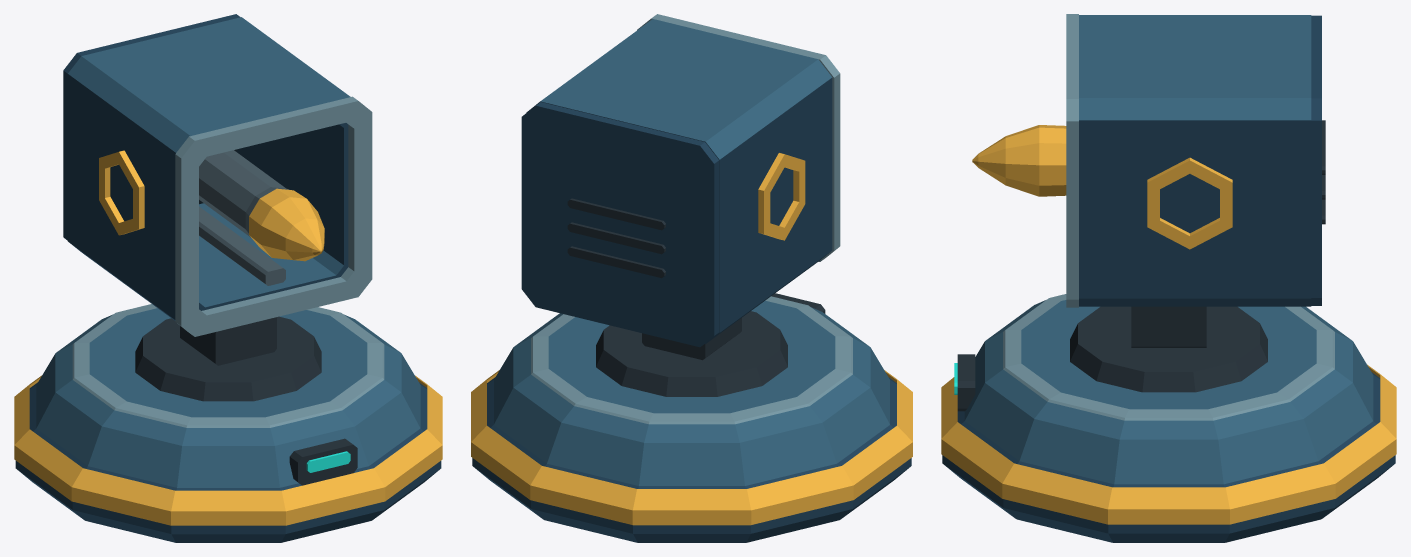
Rendered from MissileTurret.obj.
3 views of the same model, side by side, from view 1: azimuth 30°, elevation 25°; view 2: azimuth 150°, elevation 25°; view 3: azimuth 270°, elevation 25° (orthographic). The views are drawn at different scales.
Parts seen in each view (by area): view 1: UpperPlinth, TopArmor, LauncherHousing, GoldBelt, BlueFrontRim, Turntable, Foundation, TopRim, Warhead, MissileBody, Support, LaunchRail (+4 smaller); view 2: UpperPlinth, RearArmor, TopArmor, GoldBelt, LauncherHousing, Turntable, Foundation, TopRim, BlueFrontRim, SideBadgeL, Support, RearVent0 (+2 smaller); view 3: UpperPlinth, LauncherHousing, TopArmor, GoldBelt, Turntable, Foundation, TopRim, Warhead, BlueFrontRim, SideBadgeR, RearArmor, Support (+1 smaller).
Boxes of the visible parts, x1=… form: UpperPlinth: x1=36, y1=308, x2=420, y2=487; TopArmor: x1=68, y1=17, x2=350, y2=307; LauncherHousing: x1=67, y1=74, x2=348, y2=320; GoldBelt: x1=14, y1=375, x2=442, y2=525; BlueFrontRim: x1=175, y1=96, x2=372, y2=336; Turntable: x1=135, y1=316, x2=321, y2=401; Foundation: x1=15, y1=382, x2=441, y2=542; TopRim: x1=72, y1=304, x2=384, y2=427; Warhead: x1=249, y1=188, x2=324, y2=261; MissileBody: x1=199, y1=150, x2=289, y2=237; Support: x1=180, y1=317, x2=276, y2=365; LaunchRail: x1=199, y1=206, x2=285, y2=285; UpperPlinth: x1=494, y1=300, x2=889, y2=485; RearArmor: x1=521, y1=102, x2=719, y2=347; TopArmor: x1=540, y1=19, x2=832, y2=159; GoldBelt: x1=471, y1=370, x2=912, y2=525; LauncherHousing: x1=526, y1=78, x2=832, y2=343; Turntable: x1=596, y1=311, x2=787, y2=396; Foundation: x1=472, y1=377, x2=911, y2=542; TopRim: x1=531, y1=296, x2=852, y2=424; BlueFrontRim: x1=637, y1=14, x2=840, y2=261; SideBadgeL: x1=758, y1=153, x2=805, y2=240; Support: x1=642, y1=318, x2=741, y2=360; RearVent0: x1=567, y1=246, x2=665, y2=278; UpperPlinth: x1=964, y1=300, x2=1373, y2=484; LauncherHousing: x1=1079, y1=120, x2=1311, y2=306; TopArmor: x1=1079, y1=15, x2=1311, y2=120; GoldBelt: x1=941, y1=364, x2=1396, y2=524; Turntable: x1=1070, y1=306, x2=1267, y2=392; Foundation: x1=942, y1=372, x2=1395, y2=542; TopRim: x1=1003, y1=294, x2=1334, y2=420; Warhead: x1=972, y1=125, x2=1066, y2=196; BlueFrontRim: x1=1066, y1=14, x2=1078, y2=307; SideBadgeR: x1=1147, y1=157, x2=1232, y2=249; RearArmor: x1=1311, y1=15, x2=1321, y2=305; Support: x1=1131, y1=306, x2=1206, y2=347.
Size of the model in its own units: 2.18 by 2.1 by 2.18.
